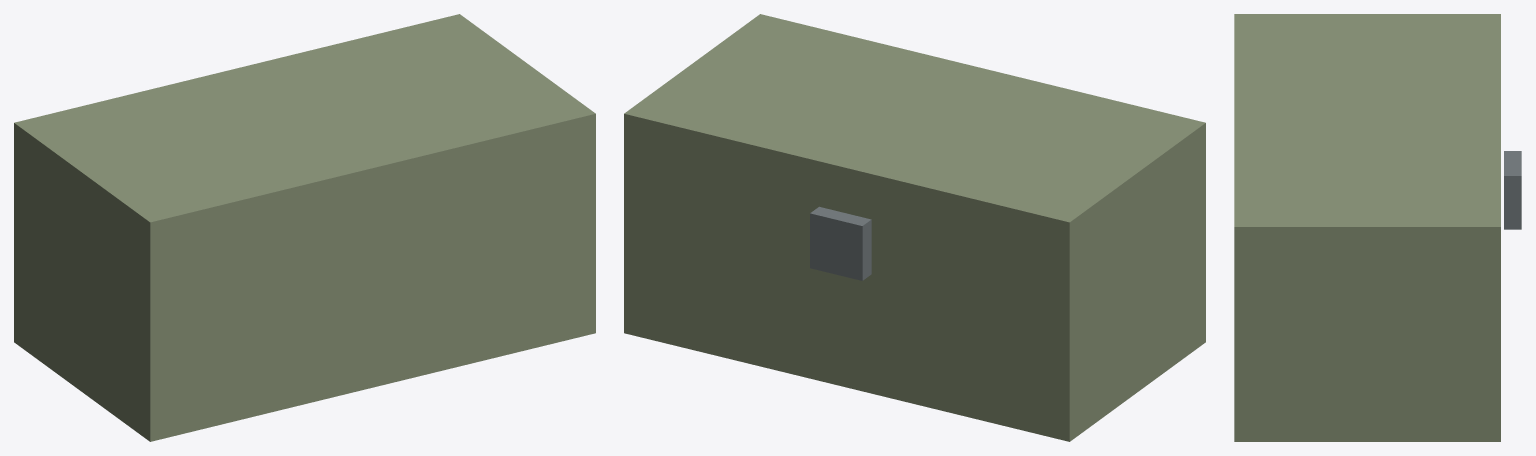
Rendered from footlocker_metal.glb.
The picture shows the model from 3 angles, left to right: view 1: azimuth 30°, elevation 25°; view 2: azimuth 150°, elevation 25°; view 3: azimuth 270°, elevation 25°; orthographic projection. The views are drawn at different scales.
Parts seen in each view (by area): view 1: body, lid; view 2: body, lid; view 3: lid, body.
Boxes of the visible parts, left/top/right/bottom form: body: left=14, top=127, right=595, bottom=441; lid: left=14, top=14, right=595, bottom=248; body: left=624, top=127, right=1205, bottom=441; lid: left=624, top=14, right=1205, bottom=249; lid: left=1234, top=14, right=1500, bottom=251; body: left=1234, top=151, right=1521, bottom=441.
Size of the model in its own units: 0.85 by 0.4 by 0.485.
